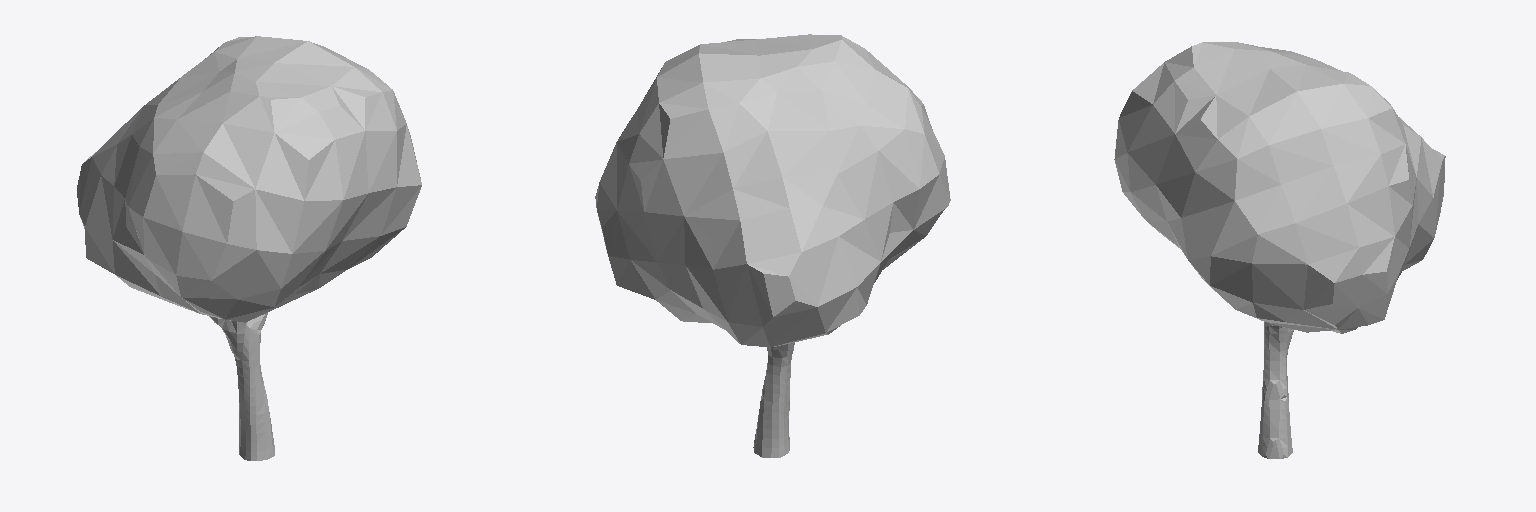
The model's file is trees2.obj.
3 renders of one model, left to right at view 1: azimuth 30°, elevation 25°; view 2: azimuth 150°, elevation 25°; view 3: azimuth 270°, elevation 25°, orthographic.
Visible parts, largest first — view 1: Tree5; view 2: Tree5; view 3: Tree5.
Boxes of the visible parts, x1,y1,x2,y2 form: Tree5: [77, 36, 421, 460]; Tree5: [595, 34, 950, 457]; Tree5: [1114, 42, 1445, 458].
Bounding box in the file's own units: 7.76 × 10.02 × 7.65.